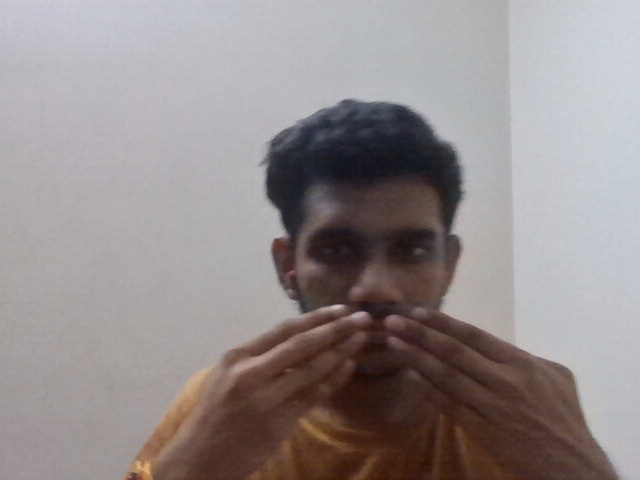thanks: (158, 307, 612, 470)
